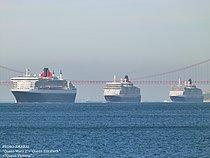Ship: (6, 65, 80, 106), (103, 72, 152, 106), (167, 76, 206, 108)
